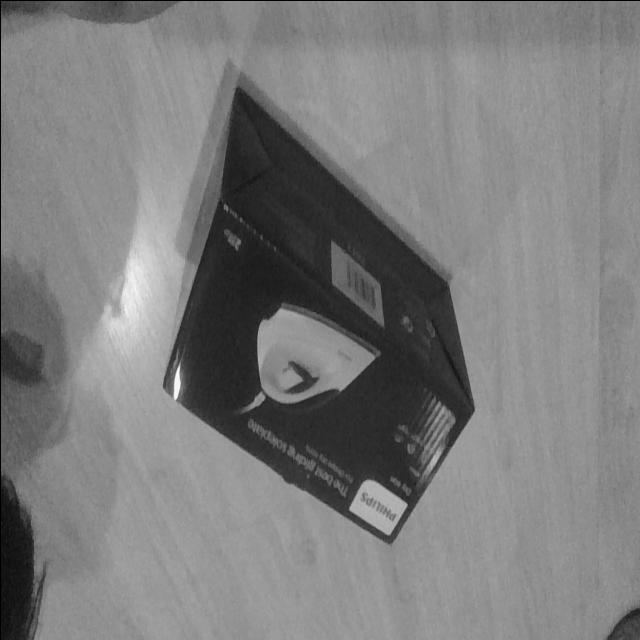IRON: (160, 78, 476, 548)
